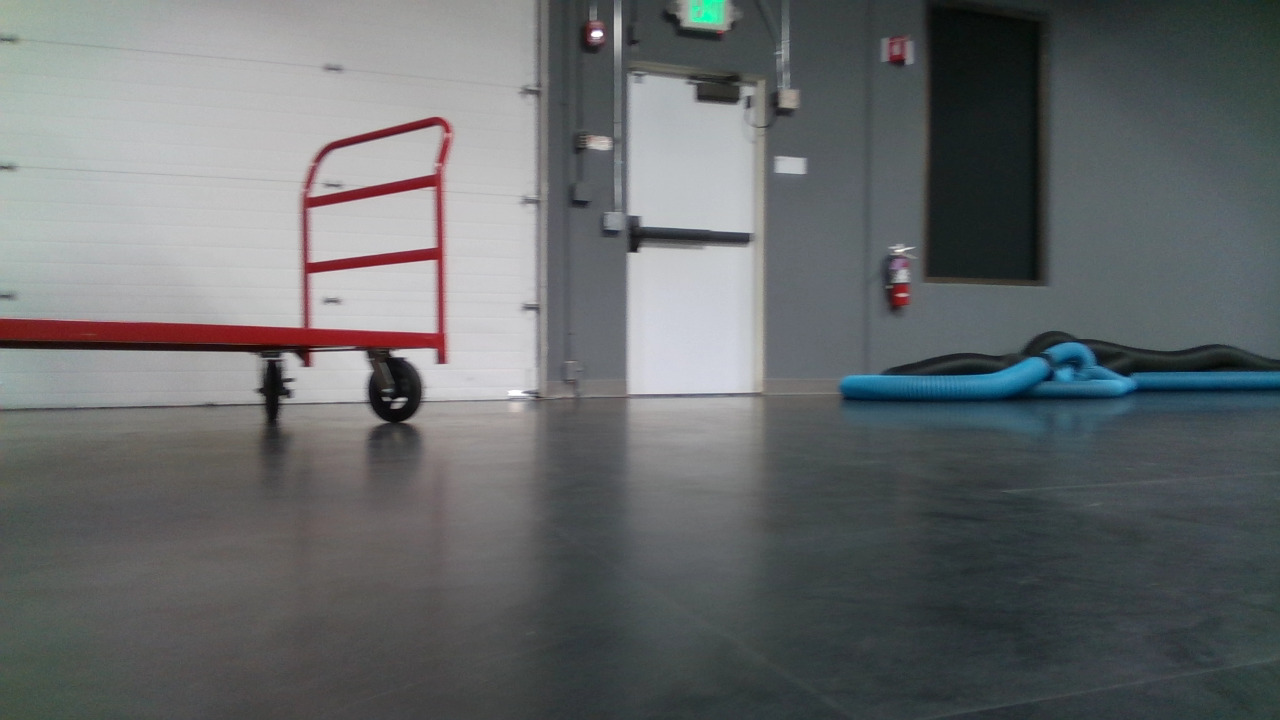Dolly: (0, 110, 460, 439)
Wheel: (364, 361, 423, 425), (255, 365, 292, 425)
